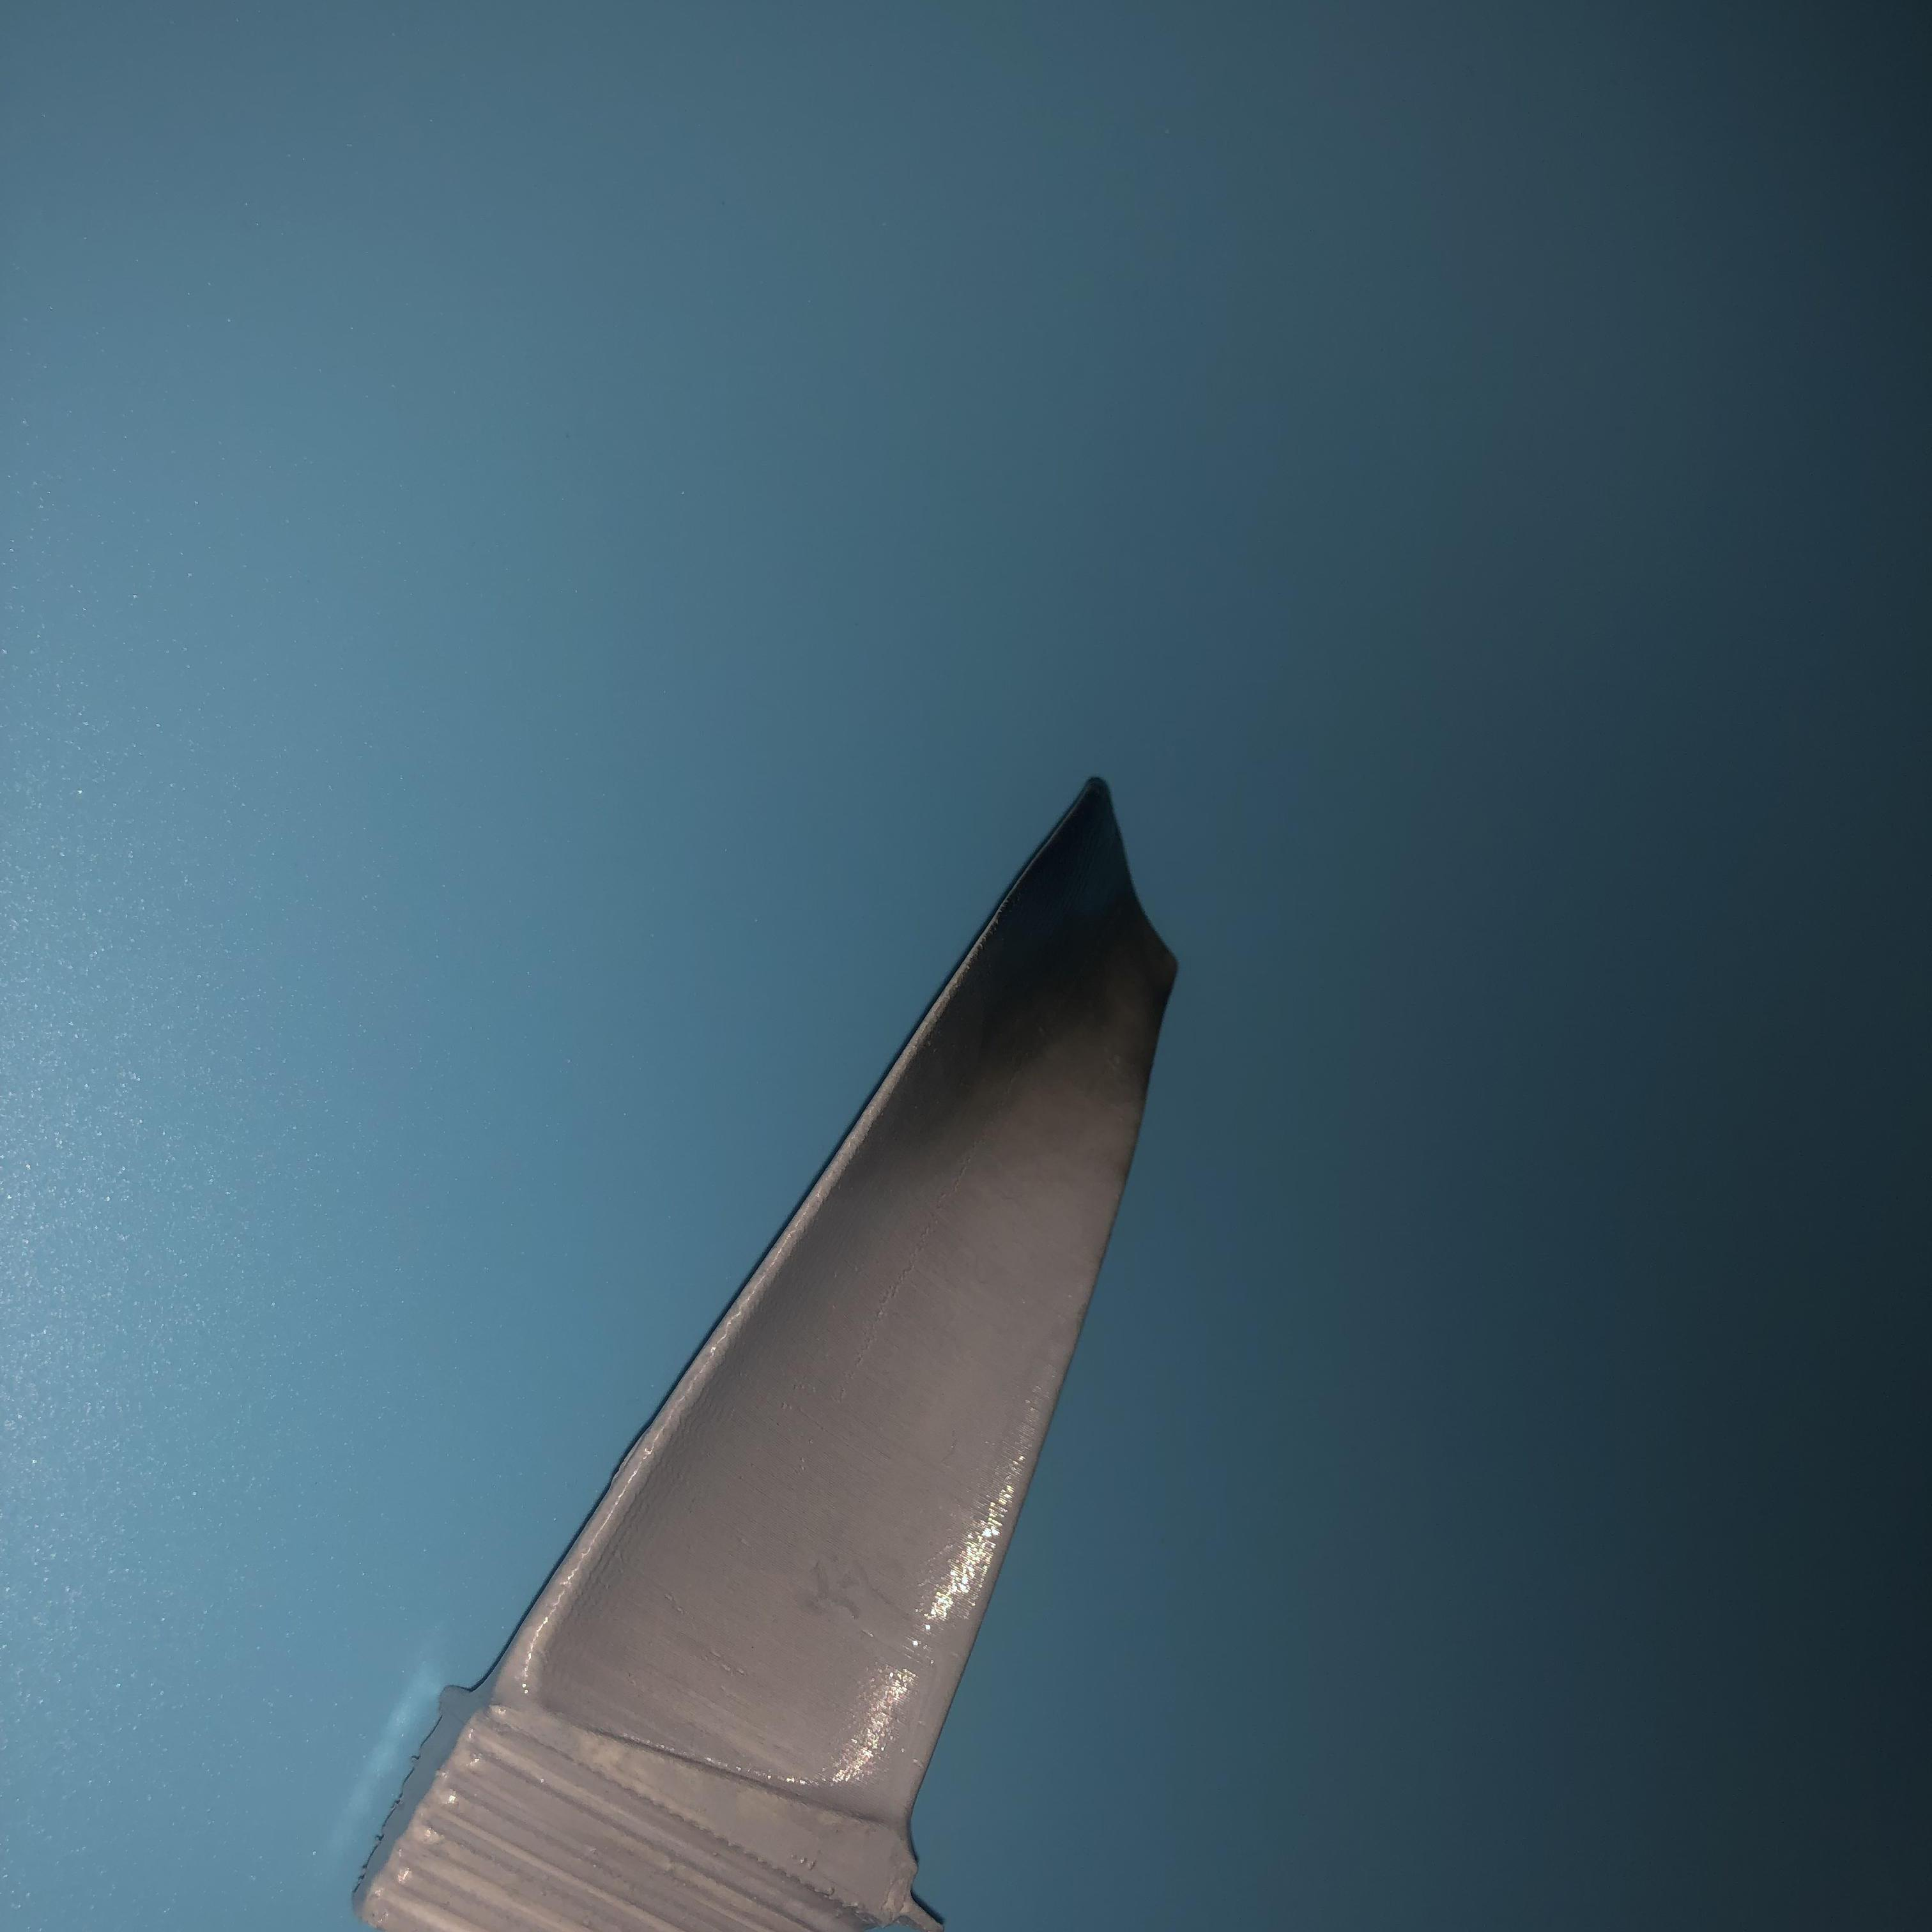ablation: (978, 801, 1150, 1182)
